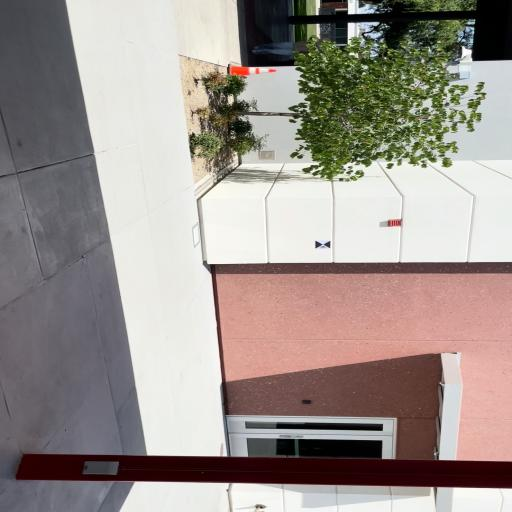target6: (315, 240, 331, 249)
